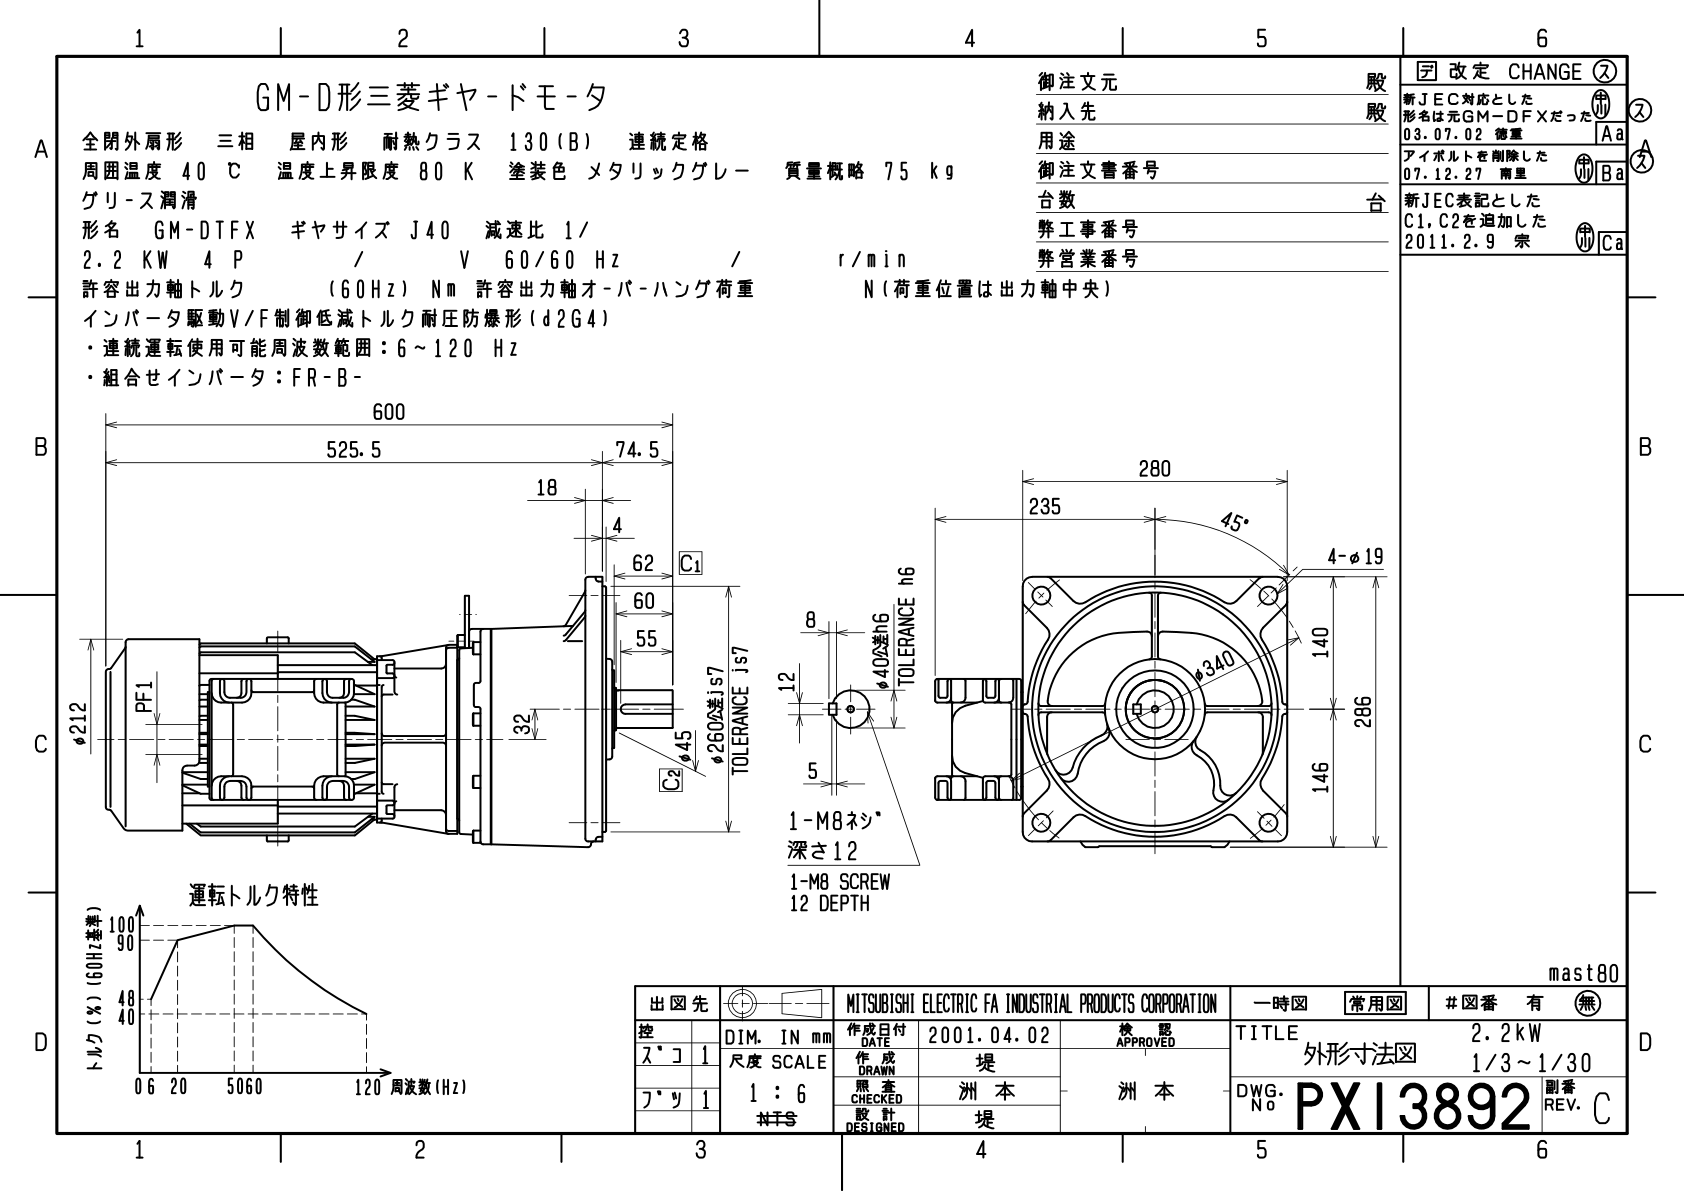GM_D_VF制御屋内_三相_フランジ: (64, 391, 1401, 941)
